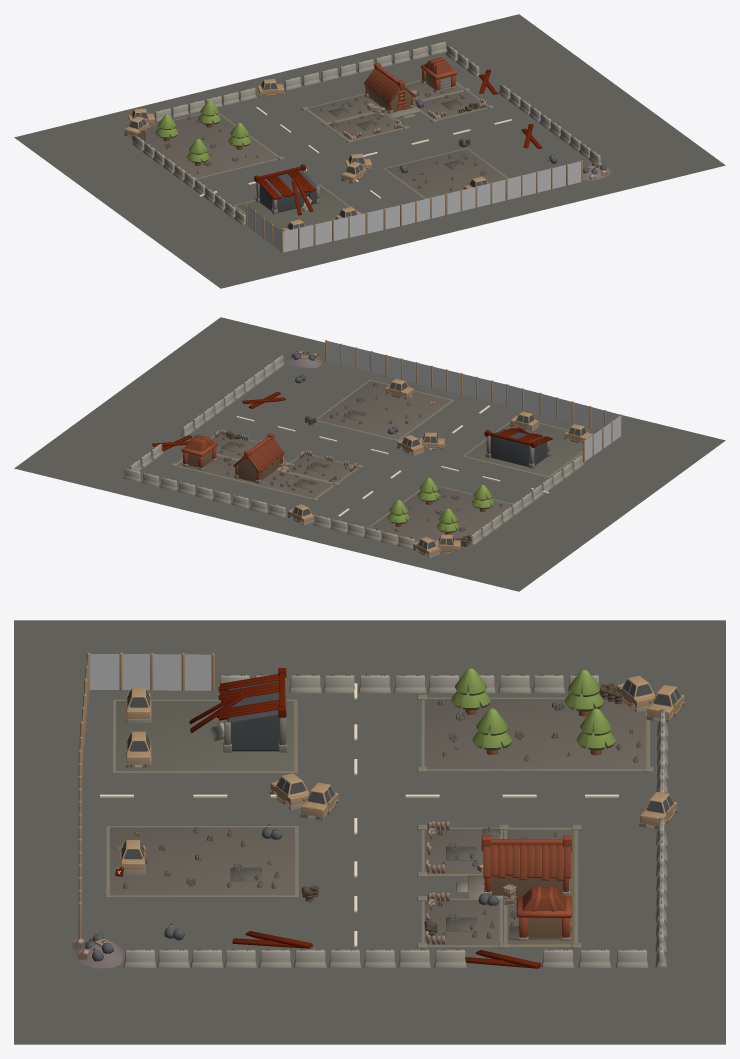
Rendered from SM_Env_2_A.fbx.
3 renders of one model, top to bottom at view 1: azimuth 30°, elevation 25°; view 2: azimuth 150°, elevation 25°; view 3: azimuth 270°, elevation 25°, orthographic. The views are drawn at different scales.
Visible parts, largest first — view 1: Ground, Plane.015, Cube.045, Cube.016; view 2: Ground, Plane.015, Cube.045, Cube.016, Plane.012; view 3: Ground, Plane.015, Cube.045, Cube.016, Plane.012, Pine.004, Pine.003, Pine.002, Pine.001, Car.005, Car.004, Car.001.
Boxes of the visible parts, left/top/right/bottom form: Ground: left=14, top=14, right=725, bottom=288; Plane.015: left=145, top=57, right=509, bottom=230; Cube.045: left=124, top=41, right=602, bottom=252; Cube.016: left=254, top=164, right=320, bottom=215; Ground: left=14, top=317, right=725, bottom=591; Plane.015: left=170, top=379, right=583, bottom=552; Cube.045: left=123, top=340, right=622, bottom=557; Cube.016: left=484, top=427, right=552, bottom=468; Plane.012: left=283, top=351, right=321, bottom=368; Ground: left=14, top=620, right=725, bottom=1044; Plane.015: left=106, top=694, right=653, bottom=948; Cube.045: left=78, top=652, right=685, bottom=968; Cube.016: left=189, top=668, right=286, bottom=752; Plane.012: left=72, top=933, right=123, bottom=968; Pine.004: left=576, top=708, right=615, bottom=755; Pine.003: left=472, top=708, right=511, bottom=754; Pine.002: left=451, top=668, right=490, bottom=714; Pine.001: left=565, top=669, right=603, bottom=716; Car.005: left=124, top=731, right=152, bottom=768; Car.004: left=124, top=688, right=152, bottom=722; Car.001: left=118, top=840, right=147, bottom=874.
Bounding box in the file's own units: 8538 × 528 × 6054.
